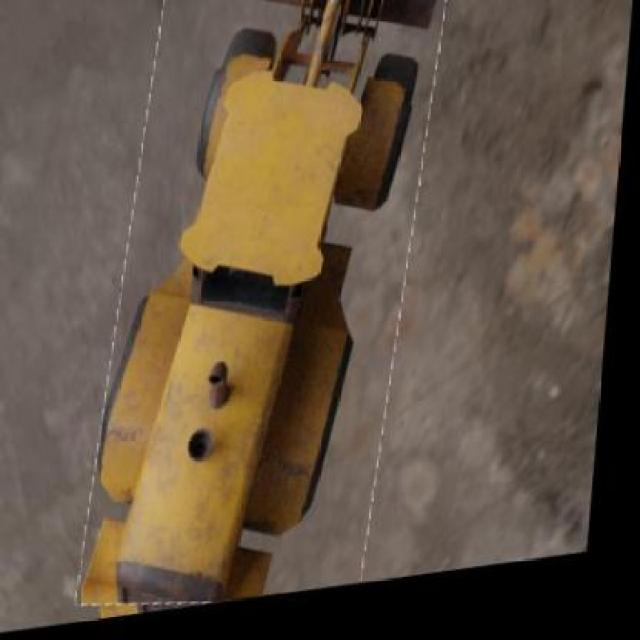buldozerpayloadergrader: (83, 0, 437, 569)
